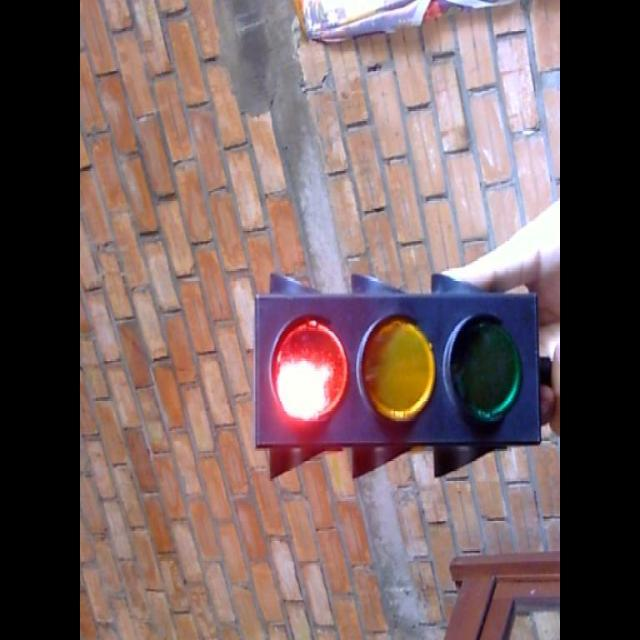red light: (261, 312, 351, 432)
